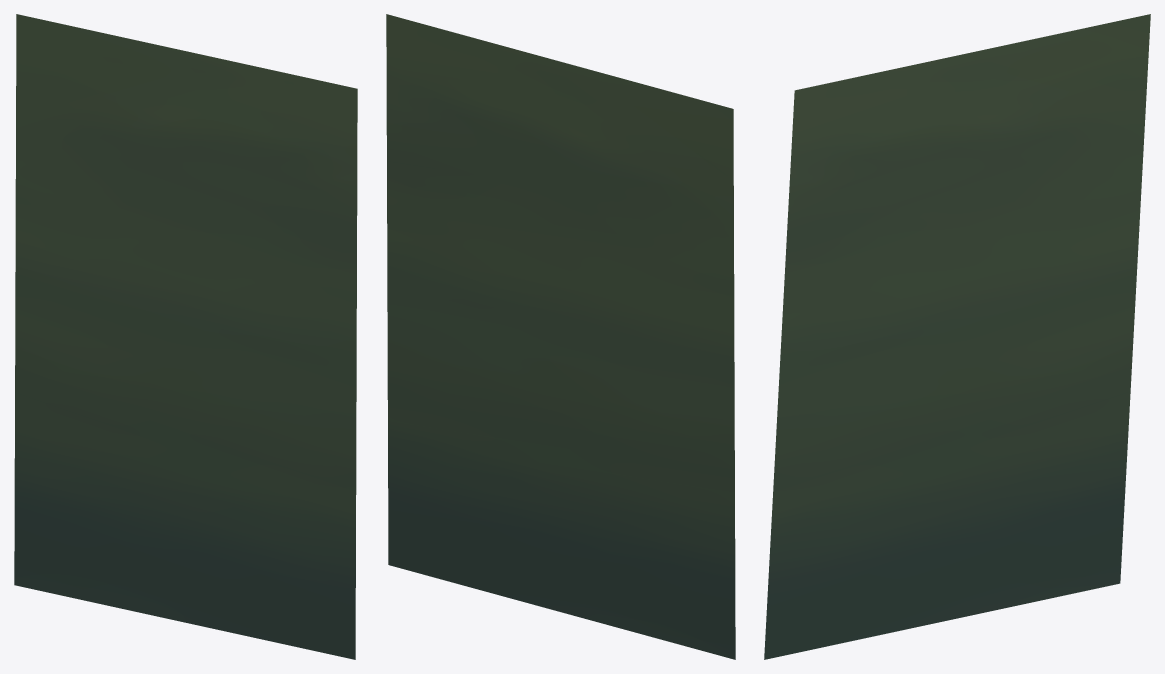
File: pplane60_lambert6_0.010_lev2.glb
3 renders of one model, left to right at view 1: azimuth 30°, elevation 25°; view 2: azimuth 210°, elevation 25°; view 3: azimuth 270°, elevation 25°, orthographic. The views are drawn at different scales.
Visible parts, largest first — view 1: pplane60_lambert6_0.010_lev2; view 2: pplane60_lambert6_0.010_lev2; view 3: pplane60_lambert6_0.010_lev2.
Part boxes in pixels (x1,y1,x2,y2): pplane60_lambert6_0.010_lev2: (14, 14, 357, 659); pplane60_lambert6_0.010_lev2: (386, 14, 735, 659); pplane60_lambert6_0.010_lev2: (764, 14, 1150, 659).
Bounding box in the file's own units: 0.0548 × 0.1588 × 0.0947.
Materials: 1 (1 with a texture image).
